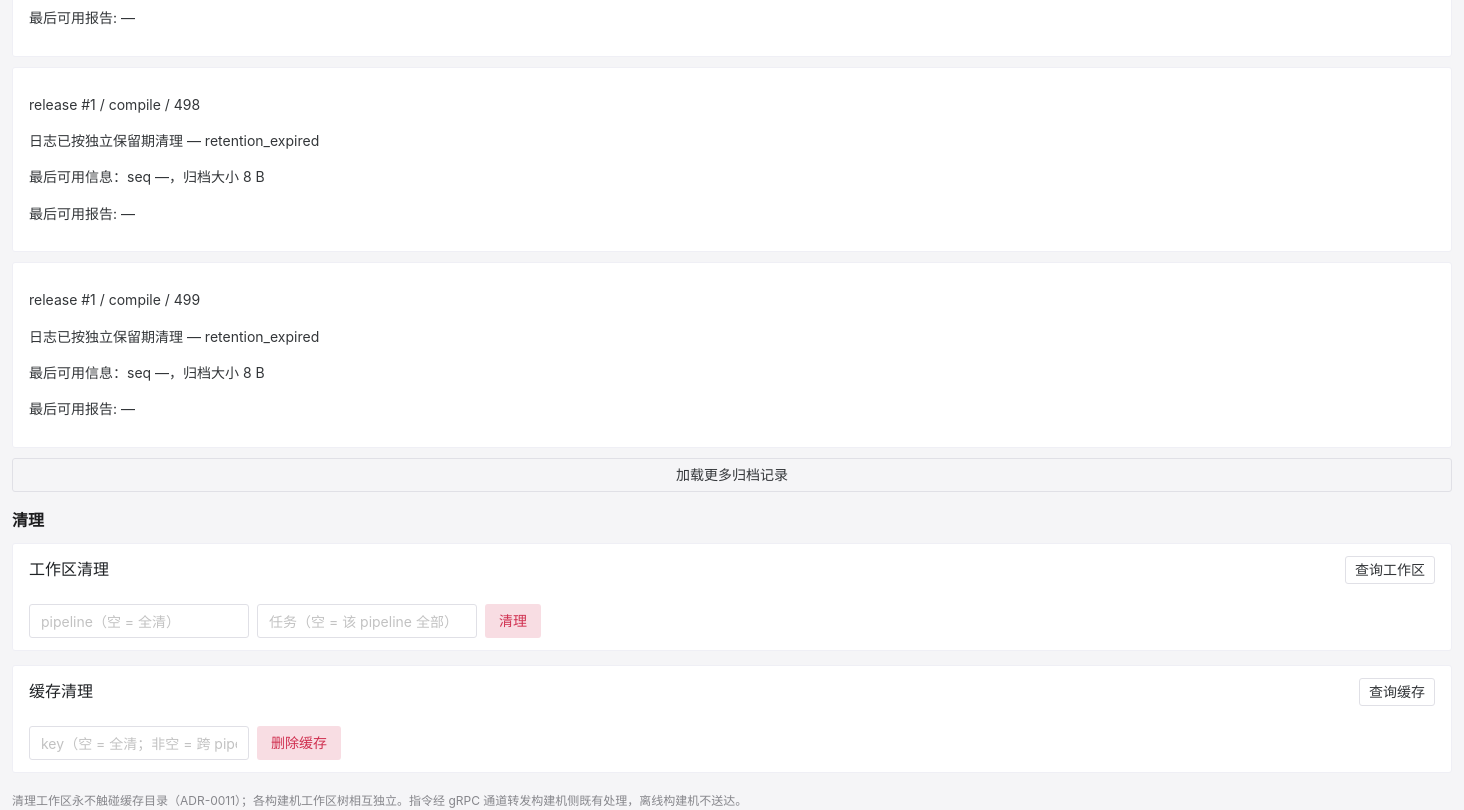
Test: AgentDetailView 详情（标签 + 槽位 + 磁盘 + 工作区/缓存清理） › 可以加载下一页归档记录而不丢失已显示的积压
(page scrolled)
Click the button "加载更多归档记录" at (732, 475), box [12,458,1452,492]
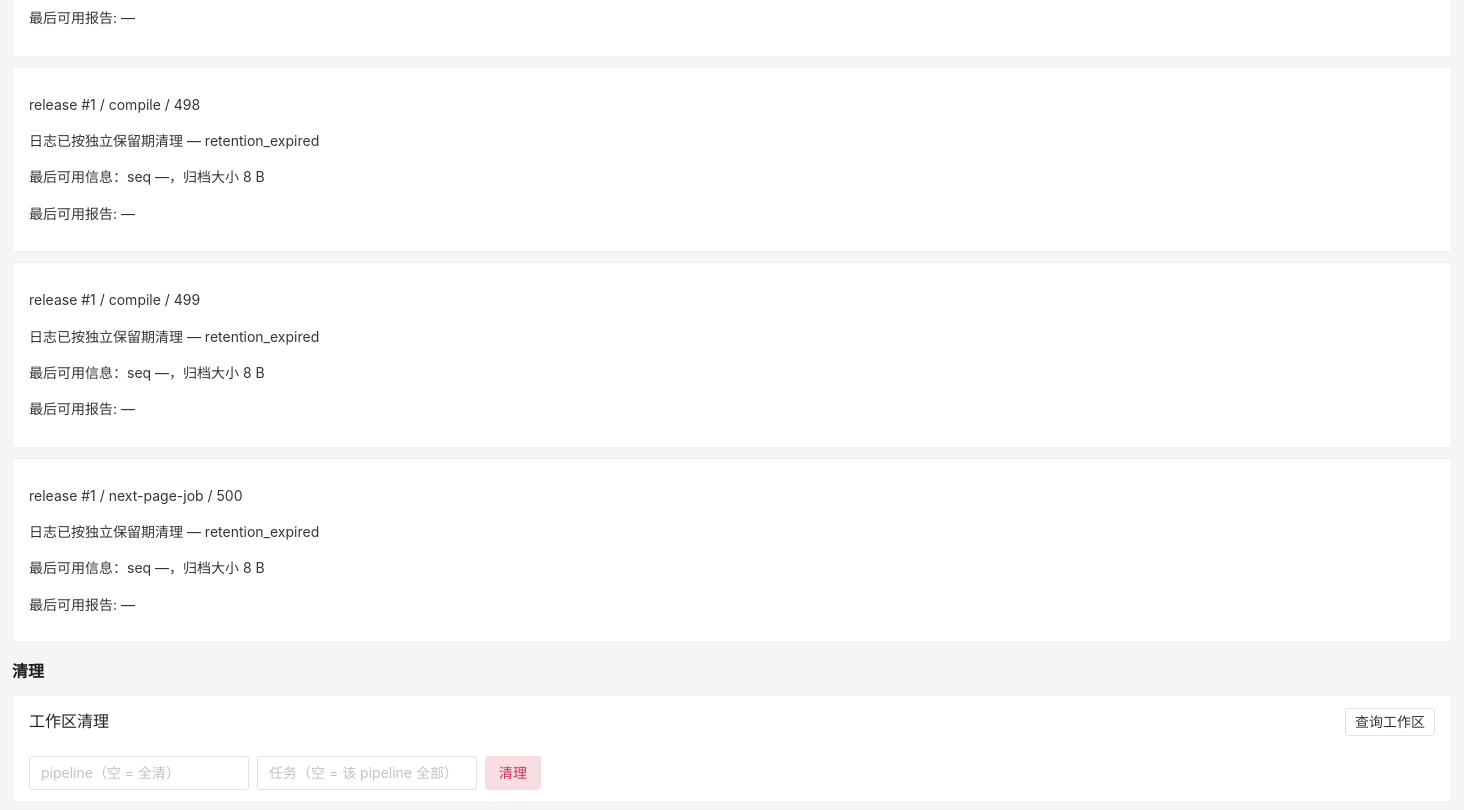
Now the text "next-page-job" is shown, box [29,487,242,504]
Now the text "加载更多归档记录" is gone
